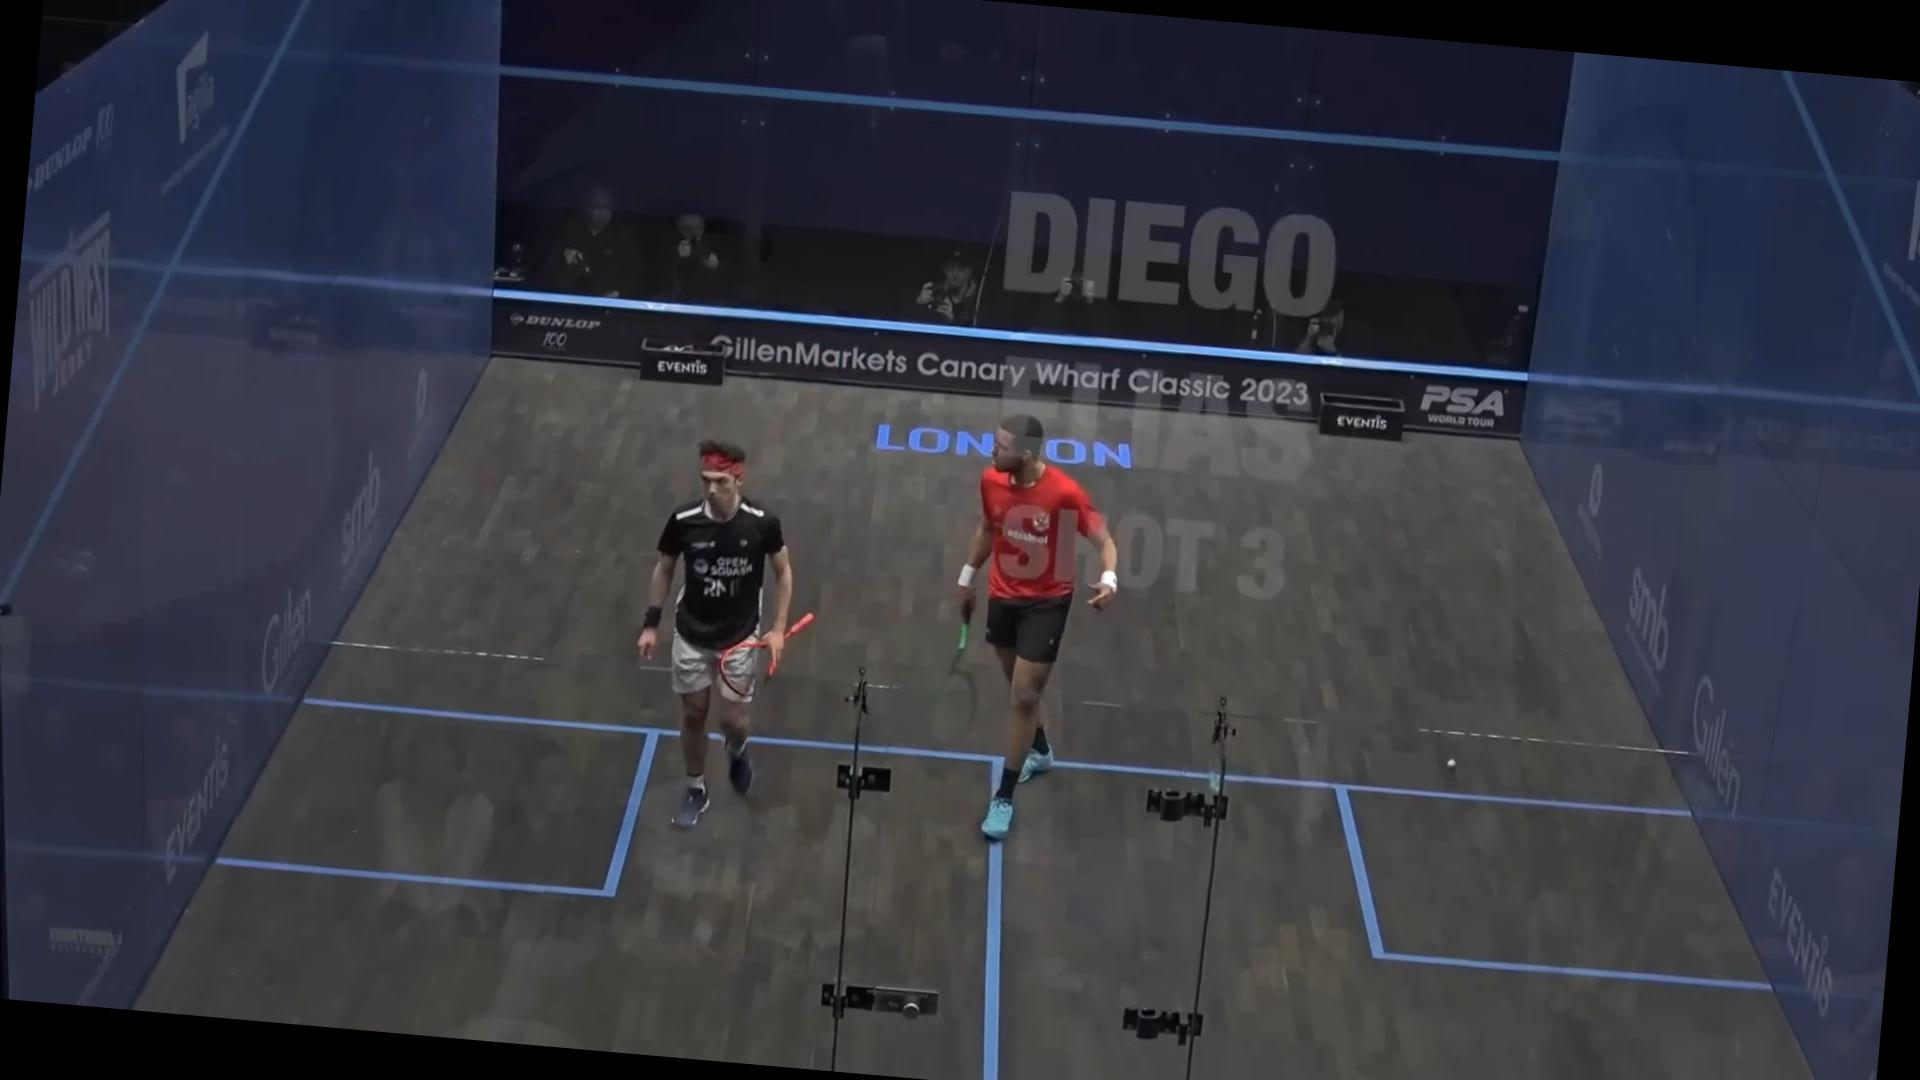Racket: (707, 596, 825, 709)
